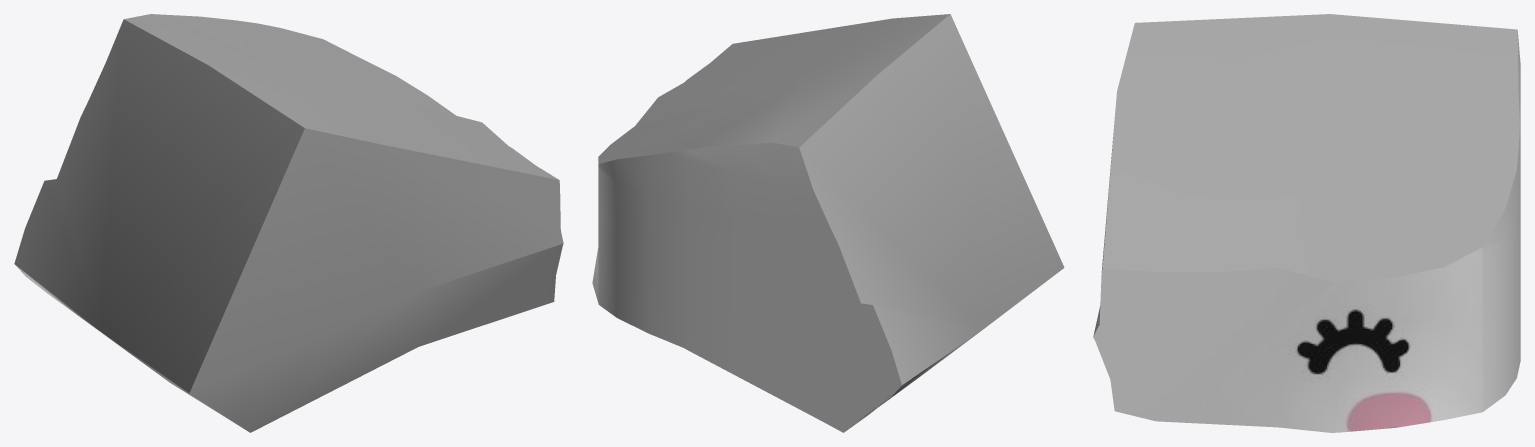
Rendered from Happy_Box5.fbx.
3 renders of one model, left to right at view 1: azimuth 30°, elevation 25°; view 2: azimuth 150°, elevation 25°; view 3: azimuth 270°, elevation 25°, orthographic. The views are drawn at different scales.
Parts seen in each view (by area): view 1: Happy_Box5; view 2: Happy_Box5; view 3: Happy_Box5.
Boxes of the visible parts, x1,y1,x2,y2 form: Happy_Box5: [14, 14, 563, 432]; Happy_Box5: [592, 14, 1064, 432]; Happy_Box5: [1093, 14, 1520, 432].
Size of the model in its own units: 33.4 by 26.73 by 29.73.
Materials: 2 (1 with a texture image).
